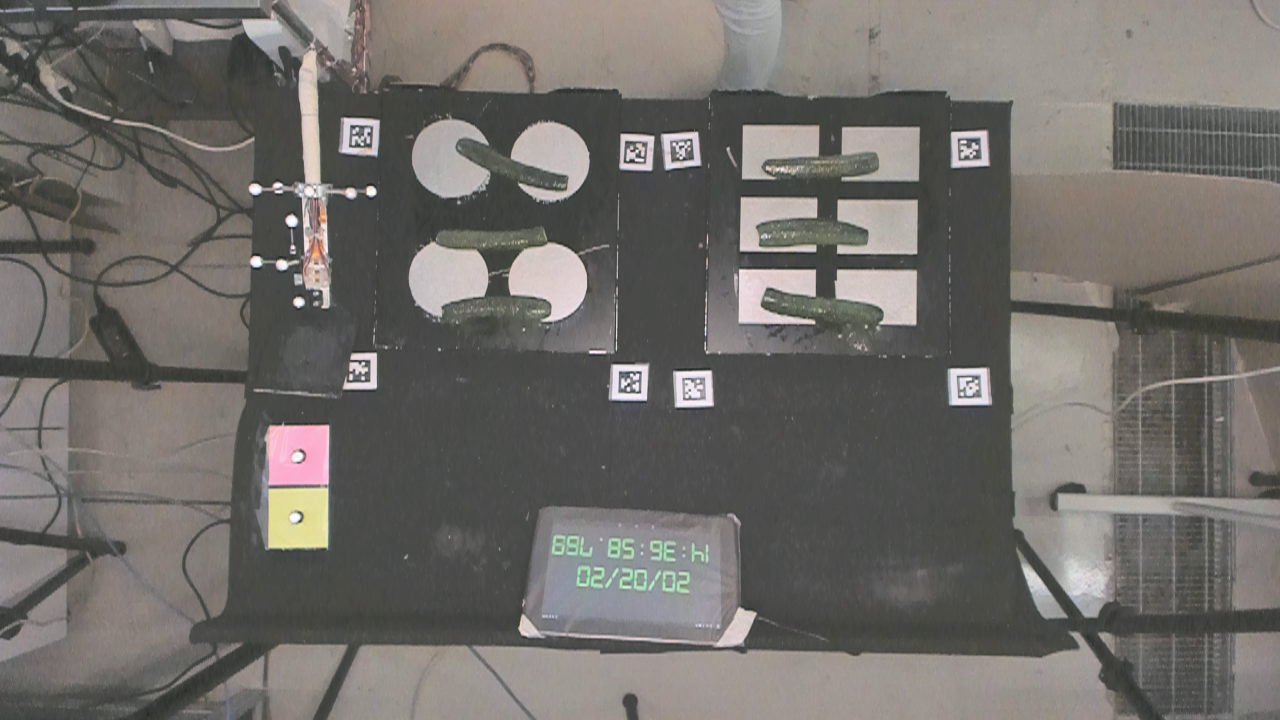marker: (266, 424, 330, 488)
zucchini: (450, 135, 574, 198), (755, 285, 890, 331), (757, 145, 887, 181), (750, 218, 876, 249), (424, 224, 550, 252), (435, 295, 555, 322)
